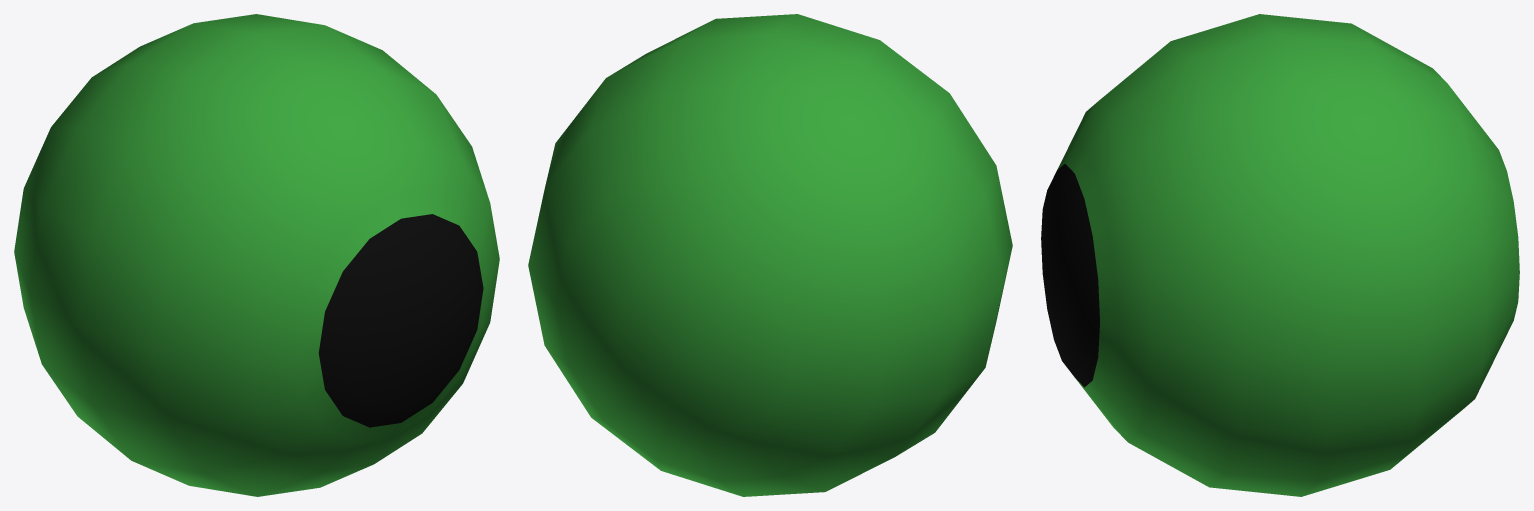
The model's file is cat_eye.obj.
3 renders of one model, left to right at view 1: azimuth 30°, elevation 25°; view 2: azimuth 150°, elevation 25°; view 3: azimuth 270°, elevation 25°, orthographic.
Parts seen in each view (by area): view 1: eye; view 2: eye; view 3: eye.
Boxes of the visible parts, x1,y1,x2,y2 form: eye: (14, 14, 499, 496); eye: (528, 14, 1012, 496); eye: (1041, 14, 1519, 496).
Bounding box in the file's own units: 0.0261 × 0.0265 × 0.0261.
